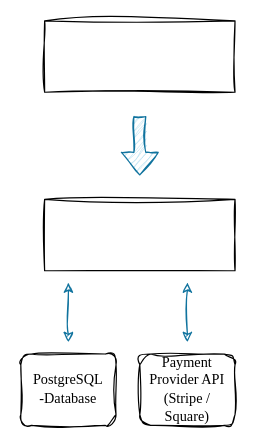
Image size: 256x447. Some labels were removed from this diagram. The shapes that lost their labels are listed below. From the top down, each one's centre as x and y in pixels, then its label:
At (139,56): "Web Browser (Client/Admin)".
At (139,234): "ASP.NET Core MVC Web App -Views (UI) -Controllers (API) -Business Logic".
